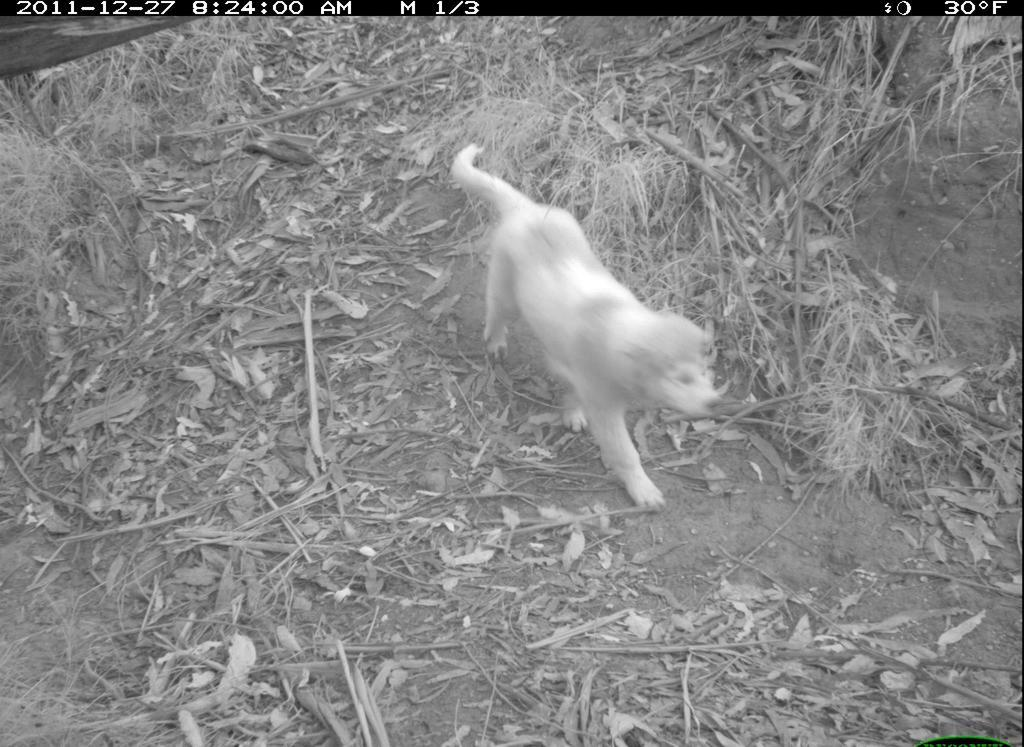dog: (443, 141, 726, 525)
